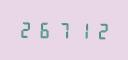one: (72, 20, 89, 40)
seven: (54, 19, 71, 40)
six: (36, 19, 53, 39)
two: (18, 19, 35, 39), (90, 20, 107, 40)
